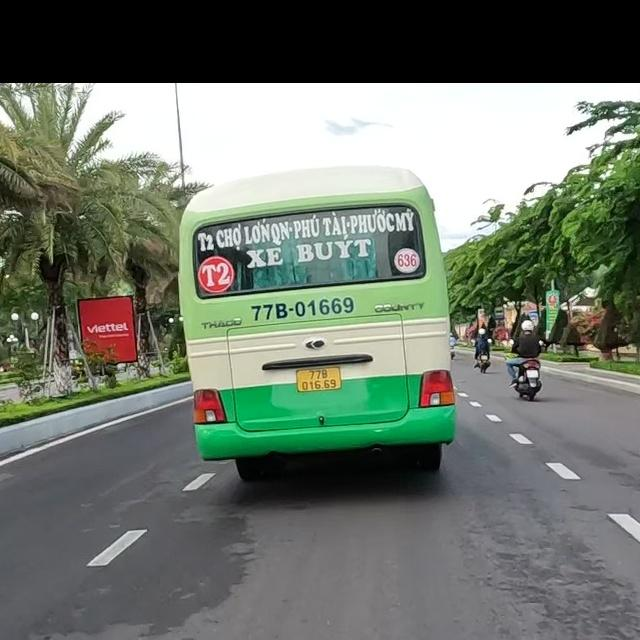license-plate: (296, 367, 342, 393)
